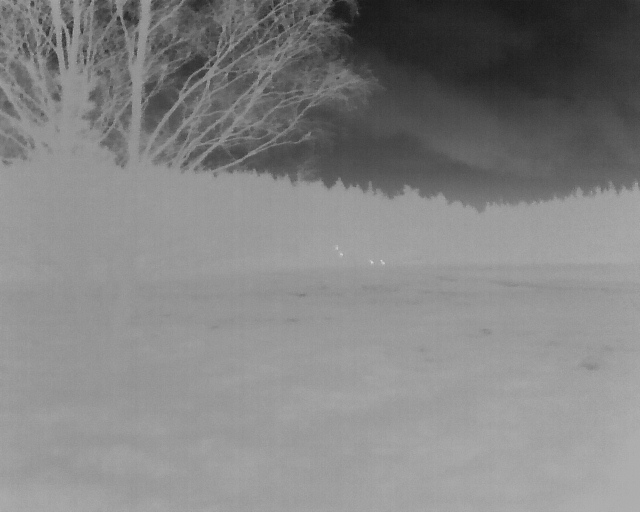Deer: (379, 259, 385, 266), (369, 260, 375, 266), (335, 244, 338, 250), (340, 252, 343, 256)
